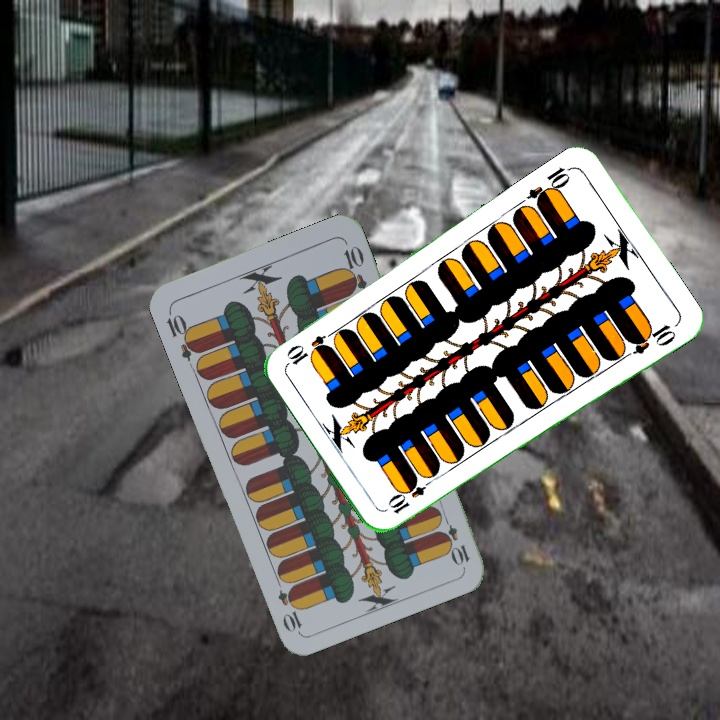E10: (524, 162, 576, 209), (384, 472, 436, 517), (162, 306, 202, 363), (437, 510, 473, 568)
